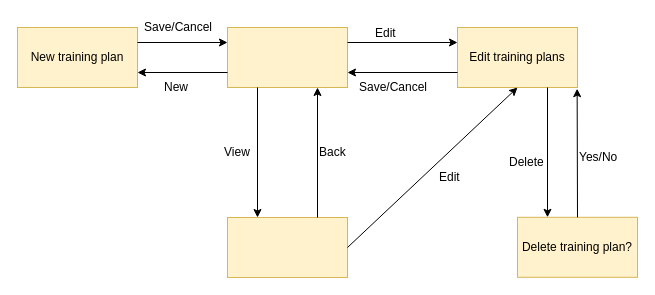
This 655x295 diagram has some shape labels left out. Here are the shapes that lost their labels. From the top down, the centre of each, then its label:
At (287,57): "List training plans".
At (287,247): "View training plan".
